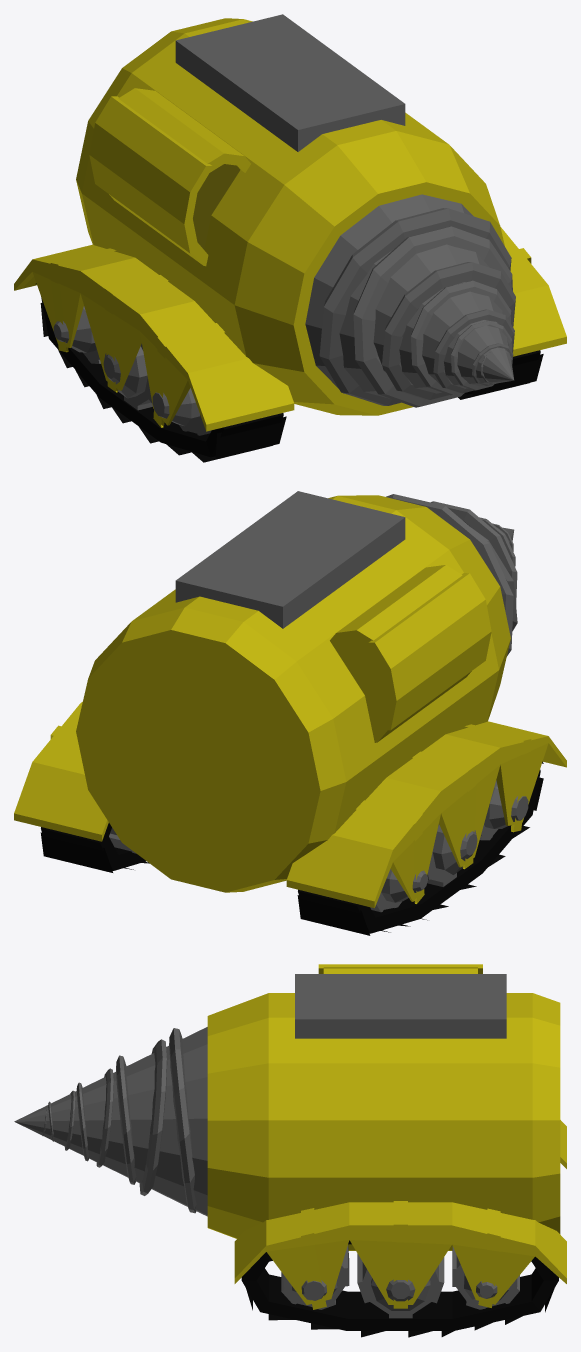
Rendered from drill.machine.full.fbx.
3 views of the same model, one above another, from view 1: azimuth 30°, elevation 25°; view 2: azimuth 150°, elevation 25°; view 3: azimuth 270°, elevation 25° (orthographic). The views are drawn at different scales.
Parts seen in each view (by area): view 1: Cylinder, Cylinder.004, Torus, Cube, Cone, Cylinder.001, Cylinder.002, Cylinder.003, Cylinder.005; view 2: Cylinder, Cylinder.004, Cube, Cylinder.001, Cylinder.002, Cylinder.003, Torus; view 3: Cylinder, Cylinder.004, Cube, Cone, Cylinder.002, Torus, Cylinder.003, Cylinder.001.
Boxes of the visible parts, bbox=[...] form: Cylinder: bbox=[76, 18, 510, 415]; Cylinder.004: bbox=[14, 227, 566, 431]; Torus: bbox=[319, 208, 515, 407]; Cube: bbox=[175, 14, 405, 151]; Cone: bbox=[305, 194, 514, 398]; Cylinder.001: bbox=[89, 88, 250, 266]; Cylinder.002: bbox=[35, 283, 543, 462]; Cylinder.003: bbox=[53, 306, 211, 435]; Cylinder.005: bbox=[193, 164, 240, 249]; Cylinder: bbox=[76, 495, 510, 892]; Cylinder.004: bbox=[14, 702, 566, 908]; Cube: bbox=[175, 491, 405, 628]; Cylinder.001: bbox=[330, 565, 491, 742]; Cylinder.002: bbox=[40, 761, 543, 935]; Cylinder.003: bbox=[109, 780, 528, 912]; Torus: bbox=[386, 494, 517, 655]; Cylinder: bbox=[207, 993, 560, 1250]; Cylinder.004: bbox=[234, 1120, 566, 1309]; Cube: bbox=[295, 974, 506, 1038]; Cone: bbox=[14, 1027, 207, 1216]; Cylinder.002: bbox=[241, 1240, 558, 1337]; Torus: bbox=[42, 1028, 196, 1213]; Cylinder.003: bbox=[281, 1244, 519, 1318]; Cylinder.001: bbox=[318, 964, 482, 973].
Size of the model in its own units: 277 by 227 by 419.
